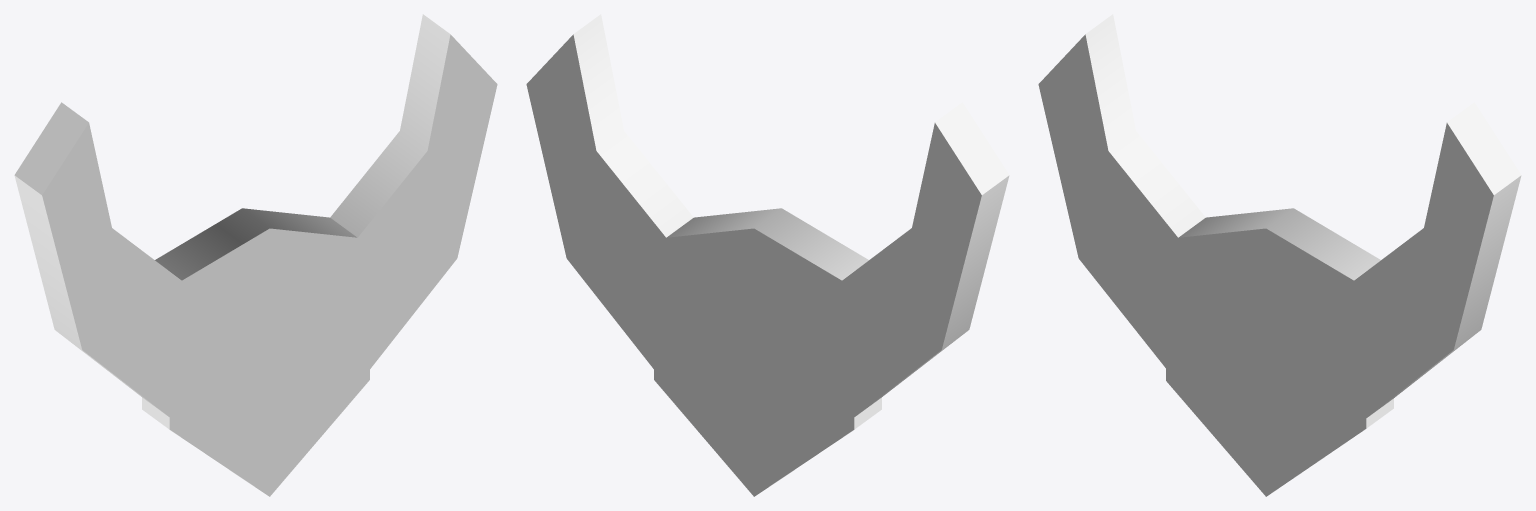
File: icon.icn.obj
3 views of the same model, side by side, from view 1: azimuth 30°, elevation 25°; view 2: azimuth 150°, elevation 25°; view 3: azimuth 330°, elevation 25° (orthographic).
Bounding box in the file's own units: 5 × 4.39 × 0.5522.
1 material, 1 textured.
